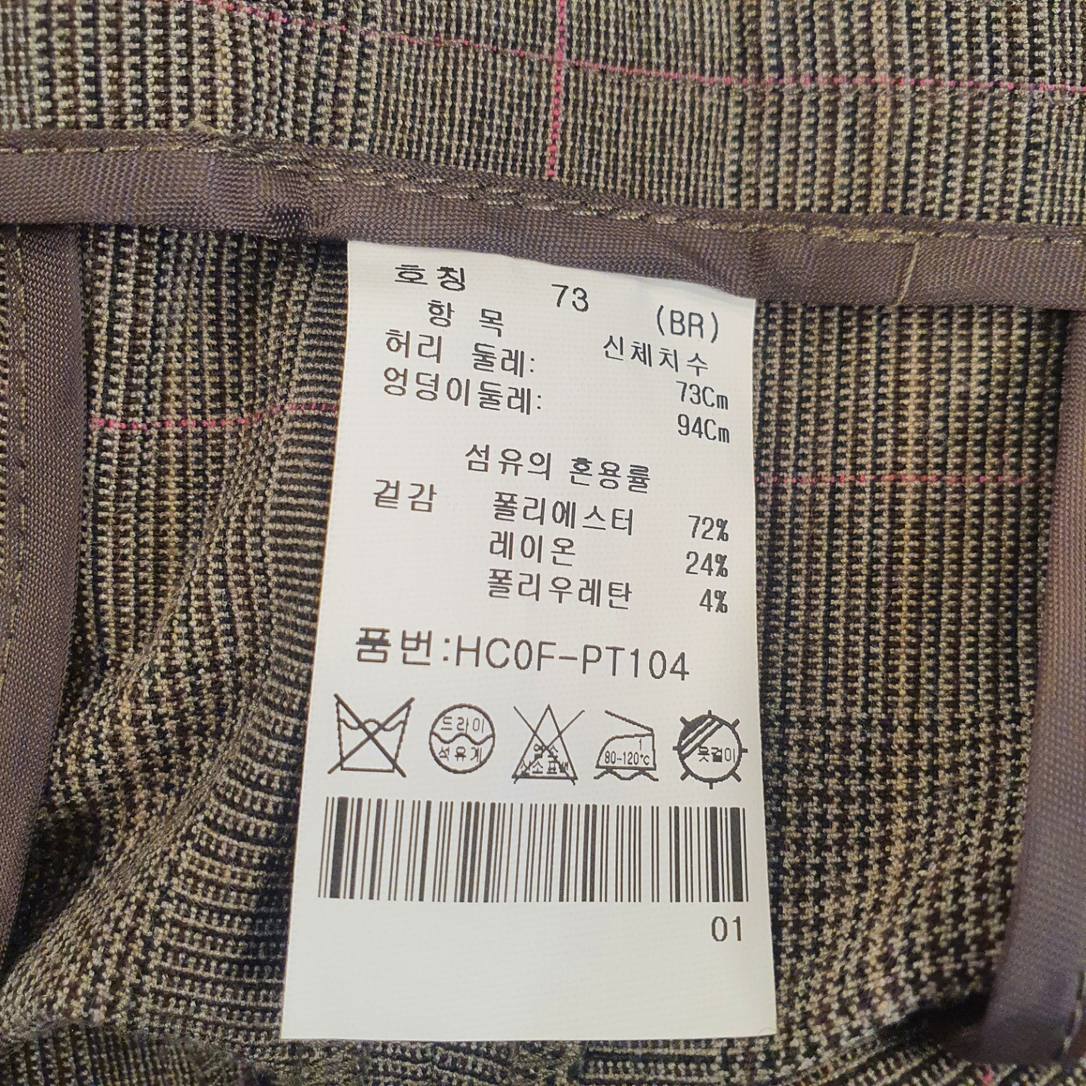KR_dry_clean_petroleum: (426, 693, 496, 779)
KR_hang_dry_in_shade: (673, 706, 749, 789)
KR_iron_low_temp_with_cloth: (589, 702, 664, 790)
KR_no_bleach: (504, 696, 582, 786)
KR_no_wash: (330, 688, 413, 778)
